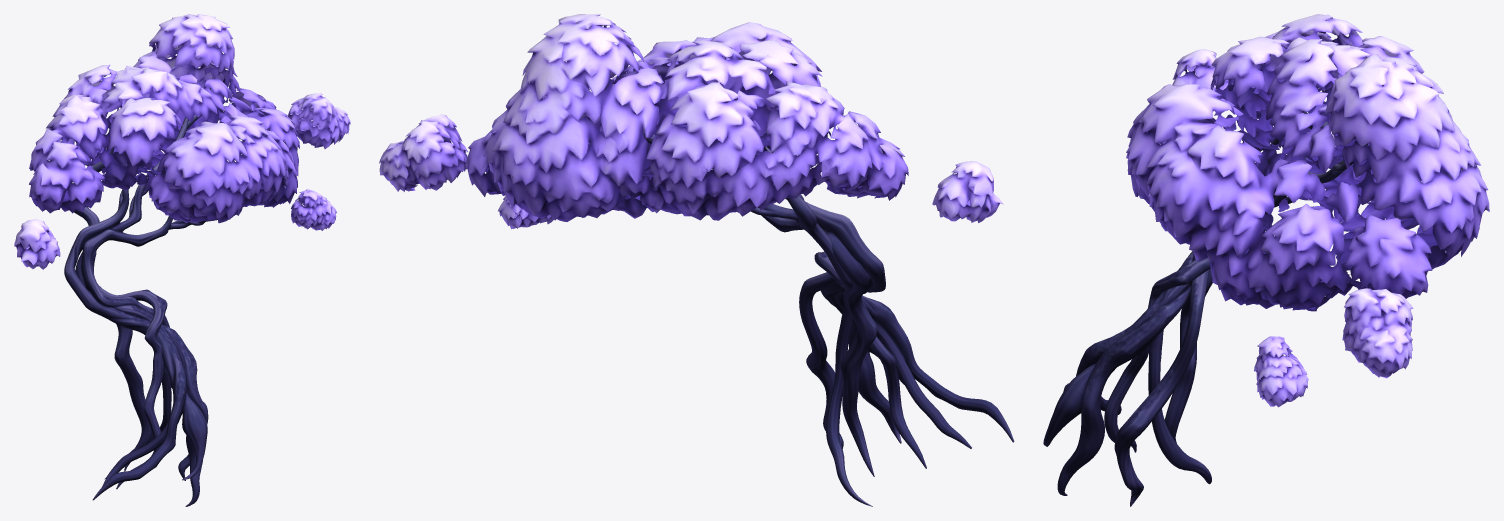
The model's file is sky_tree_02b_nexus.glb.
3 renders of one model, left to right at view 1: azimuth 30°, elevation 25°; view 2: azimuth 150°, elevation 25°; view 3: azimuth 270°, elevation 25°, orthographic. The views are drawn at different scales.
Parts seen in each view (by area): view 1: tree_02b; view 2: tree_02b; view 3: tree_02b.
Boxes of the visible parts, x1,y1,x2,y2 form: tree_02b: [14, 14, 350, 506]; tree_02b: [379, 14, 1014, 506]; tree_02b: [1043, 14, 1489, 506].
Bounding box in the file's own units: 12.81 × 11.59 × 9.03.
Materials: 2 (2 with a texture image).
